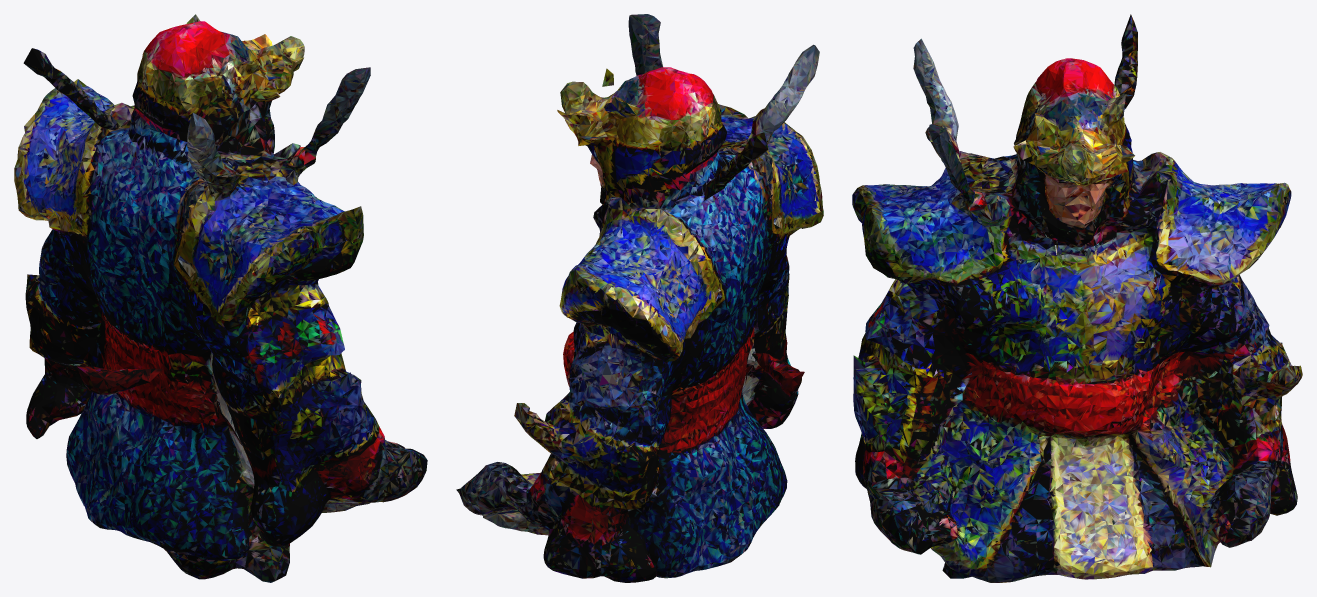
The model's file is samurai-normal.glb.
The picture shows the model from 3 angles, left to right: view 1: azimuth 30°, elevation 25°; view 2: azimuth 150°, elevation 25°; view 3: azimuth 270°, elevation 25°; orthographic projection. The views are drawn at different scales.
Parts seen in each view (by area): view 1: extracted_mesh; view 2: extracted_mesh; view 3: extracted_mesh.
Part boxes in pixels (<box>): extracted_mesh: <box>14,14,427,582</box>; extracted_mesh: <box>456,14,823,582</box>; extracted_mesh: <box>852,14,1302,582</box>.
Size of the model in its own units: 0.6886 by 1.19 by 0.9648.
1 material, 1 textured.
